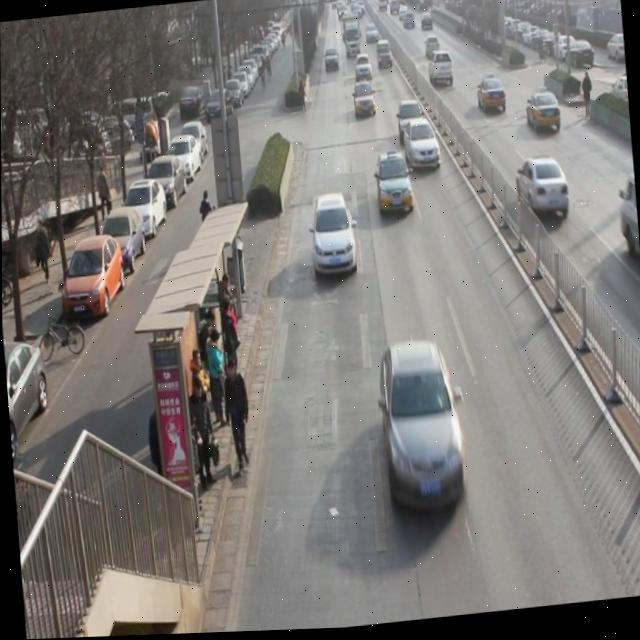car: (374, 337, 471, 525), (510, 154, 570, 223), (309, 195, 358, 277), (373, 154, 413, 216), (399, 121, 441, 173), (525, 89, 563, 139), (475, 78, 507, 121), (426, 55, 456, 92), (349, 83, 377, 122), (394, 103, 426, 136), (352, 54, 374, 86), (321, 46, 341, 77), (374, 43, 392, 71)
truck: (616, 177, 640, 277)
